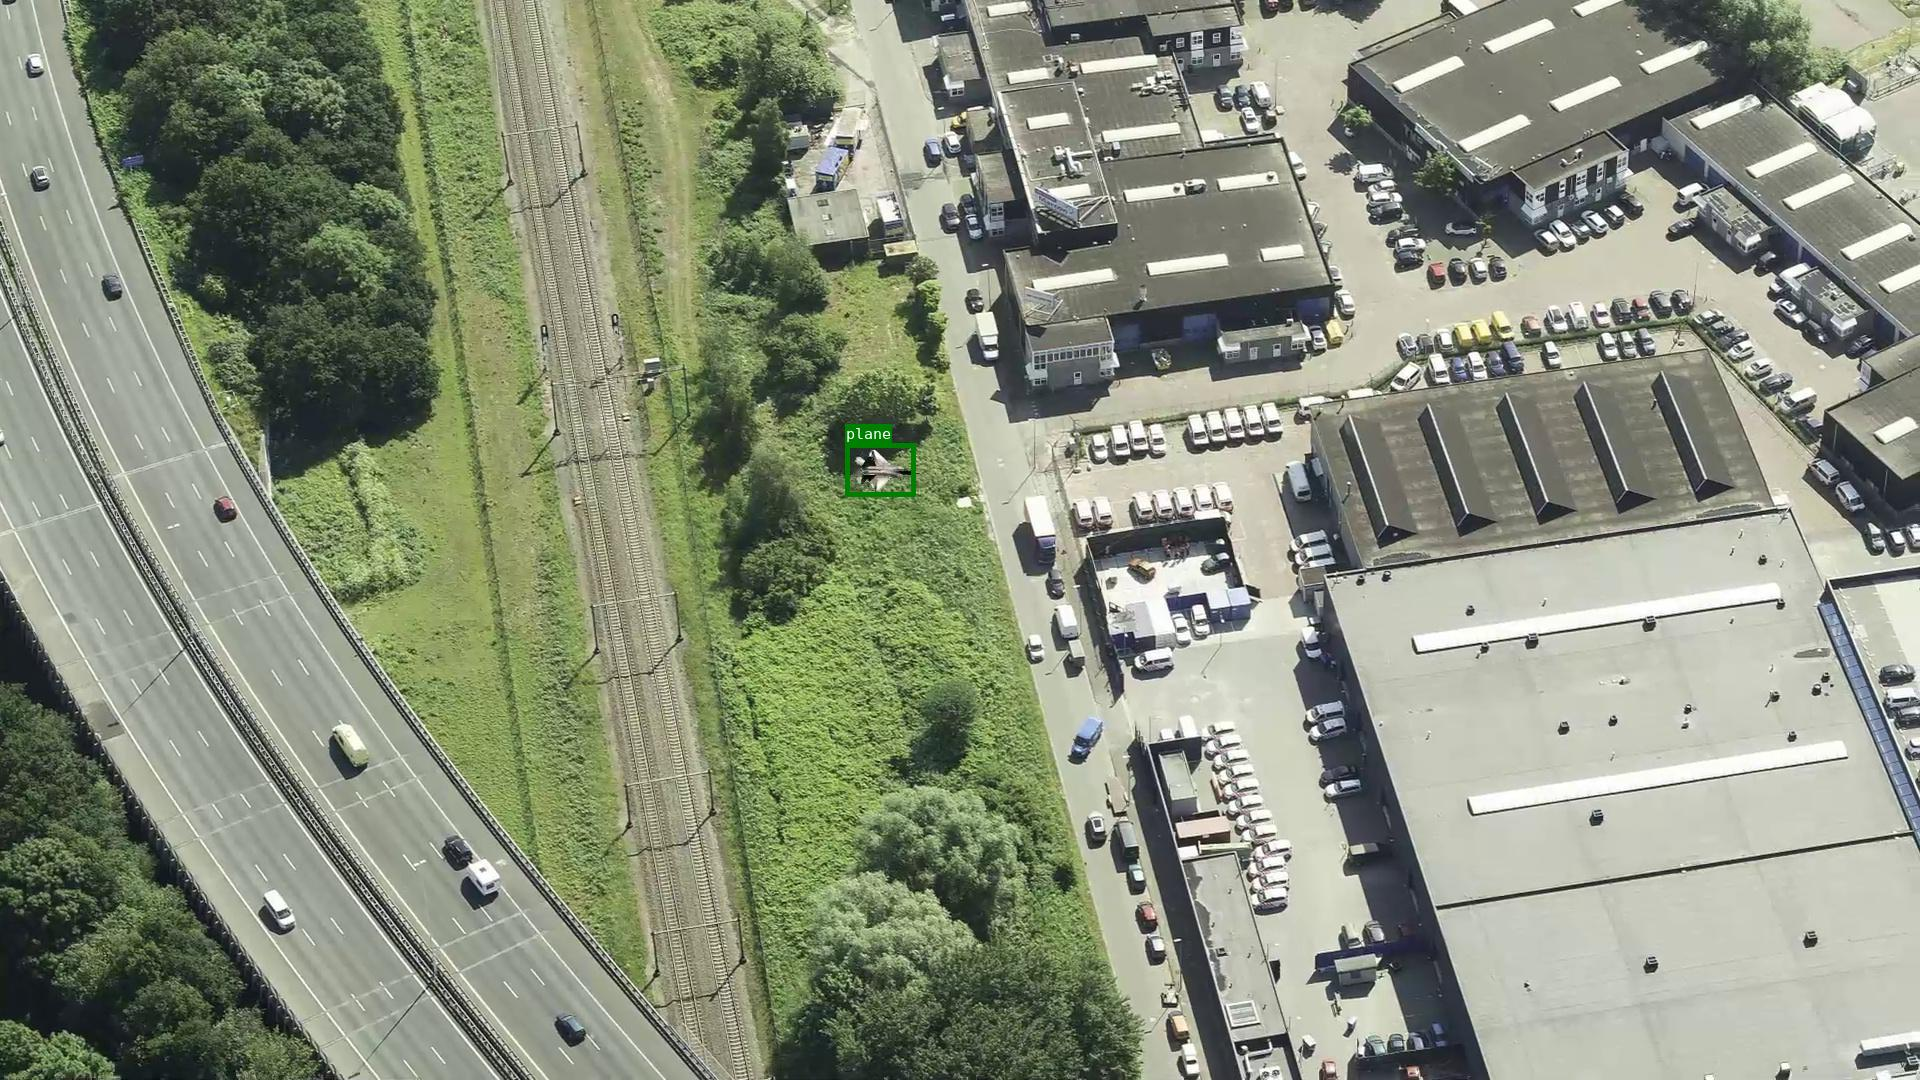plane: (845, 443, 915, 496)
